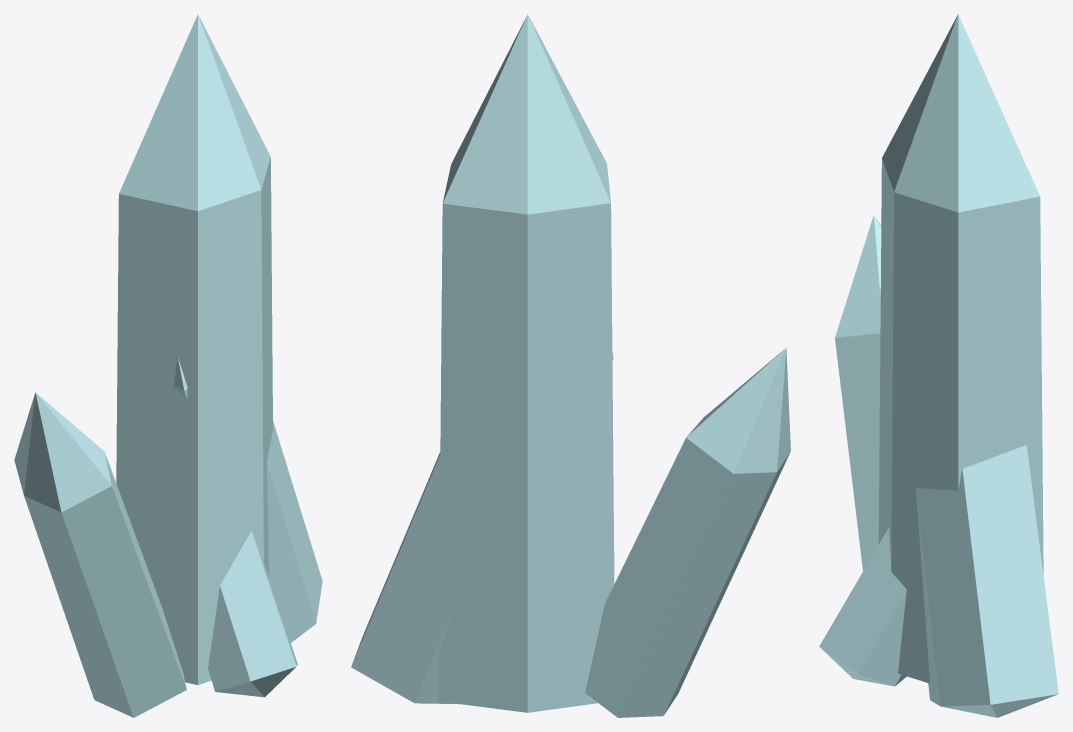
File: shard.glb
3 renders of one model, left to right at view 1: azimuth 30°, elevation 25°; view 2: azimuth 150°, elevation 25°; view 3: azimuth 270°, elevation 25°, orthographic. The views are drawn at different scales.
Visible parts, largest first — view 1: shard; view 2: shard; view 3: shard.
Part boxes in pixels (x1,y1,x2,y2): shard: (14,14,322,717); shard: (351,14,790,717); shard: (819,14,1058,717).
Size of the model in its own units: 0.0767 by 0.1388 by 0.0454.
